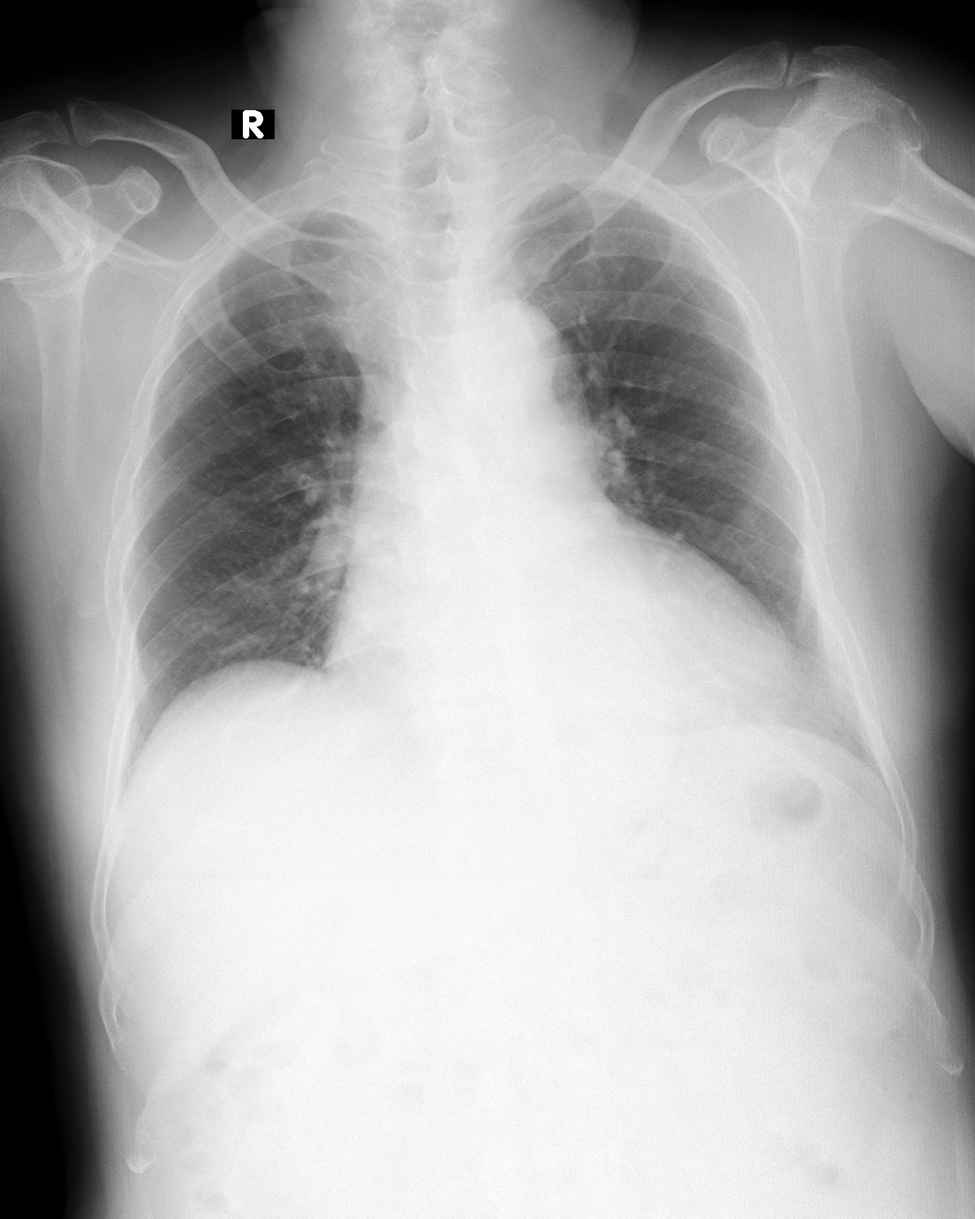Aortic enlargement: (442, 292, 578, 398)
Cardiomegaly: (321, 580, 805, 753)
